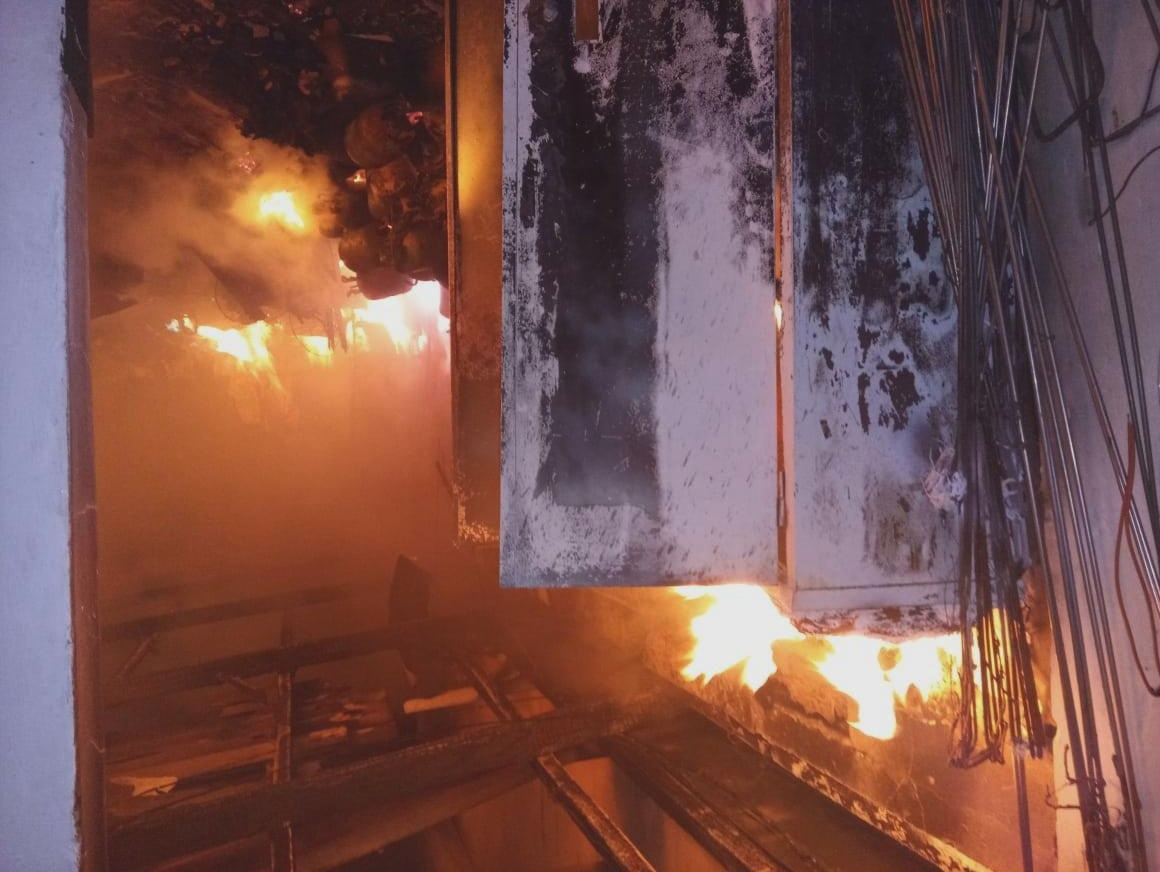fire: (160, 148, 470, 429), (660, 558, 988, 724)
